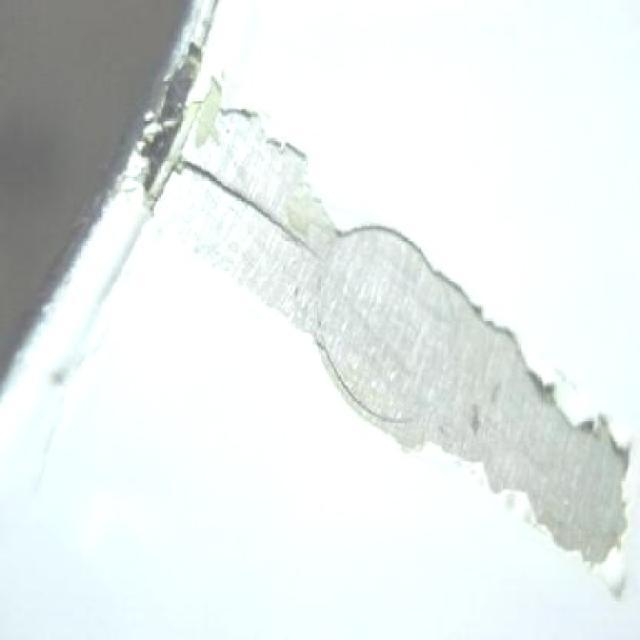crack: (252, 203, 320, 257), (177, 161, 248, 201)
